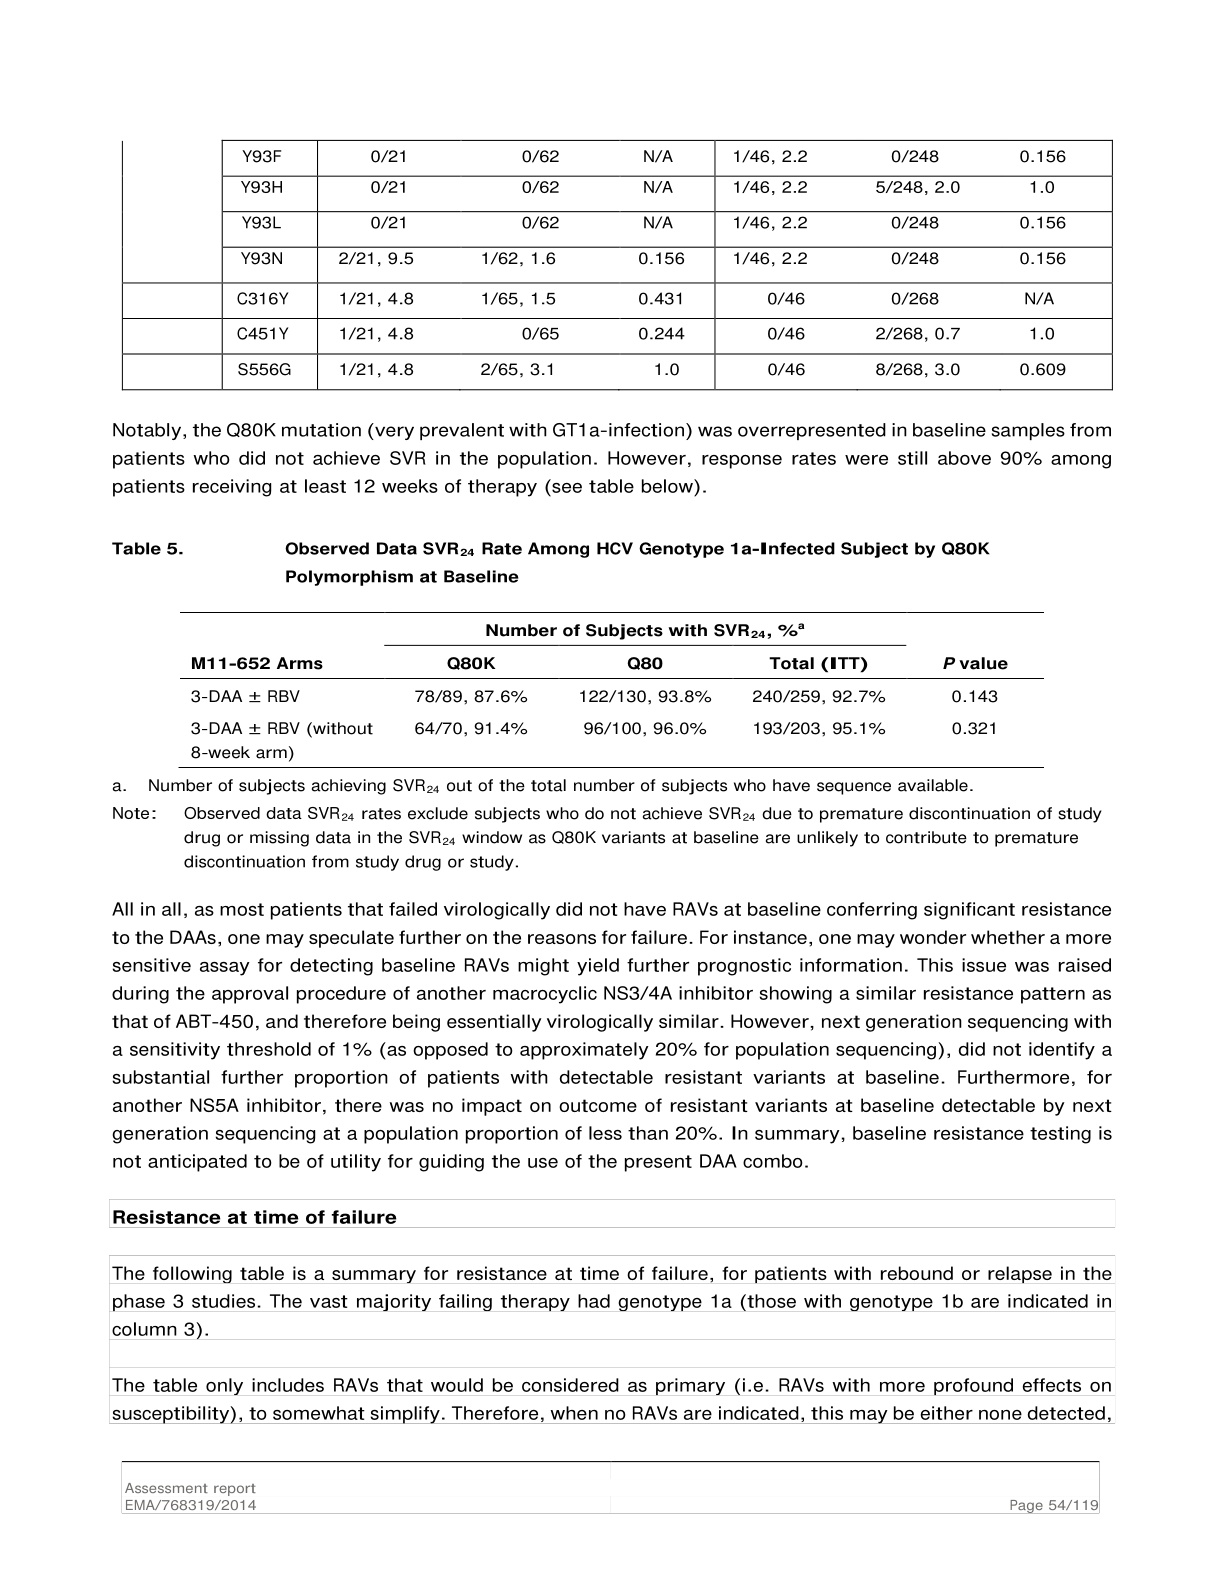partial_lined_merged_cells: (121, 138, 1113, 391), (177, 611, 1045, 770)
